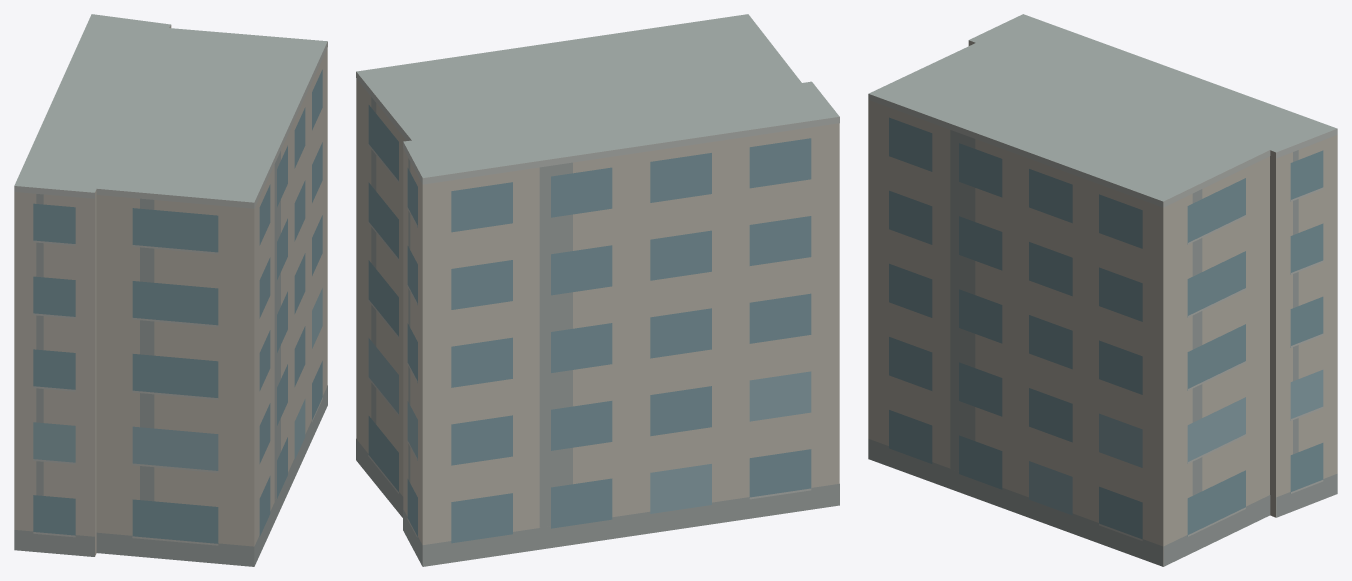
The model's file is survey-upis-33007356.glb.
The picture shows the model from 3 angles, left to right: view 1: azimuth 30°, elevation 25°; view 2: azimuth 150°, elevation 25°; view 3: azimuth 270°, elevation 25°; orthographic projection. The views are drawn at different scales.
Visible parts, largest first — view 1: survey-upis-33007356.tmp; view 2: survey-upis-33007356.tmp; view 3: survey-upis-33007356.tmp.
Part boxes in pixels (x1,y1,x2,y2): survey-upis-33007356.tmp: (14, 14, 327, 566); survey-upis-33007356.tmp: (356, 14, 839, 566); survey-upis-33007356.tmp: (868, 14, 1337, 566).
Bounding box in the file's own units: 16.09 × 14.6 × 17.
